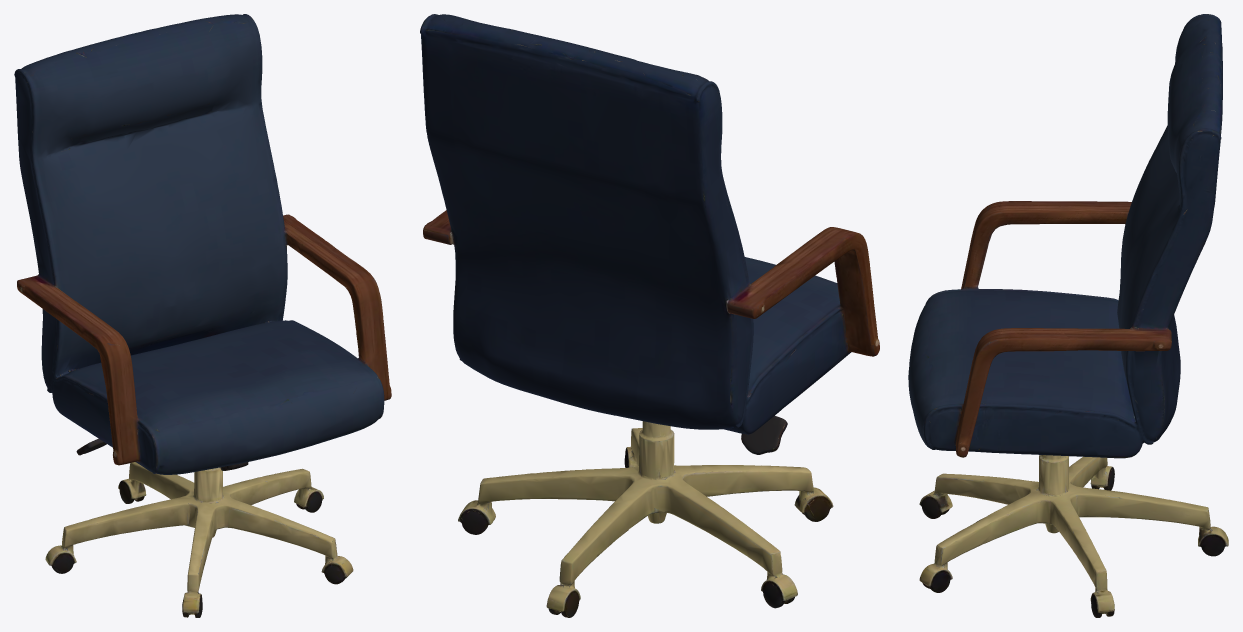
File: chair.glb
3 views of the same model, side by side, from view 1: azimuth 30°, elevation 25°; view 2: azimuth 150°, elevation 25°; view 3: azimuth 270°, elevation 25° (orthographic). The views are drawn at different scales.
Visible parts, largest first — view 1: Mesh_0; view 2: Mesh_0; view 3: Mesh_0.
Part boxes in pixels (<box>): Mesh_0: <box>14,14,391,617</box>; Mesh_0: <box>420,14,879,617</box>; Mesh_0: <box>908,14,1228,617</box>.
Bounding box in the file's own units: 1.18 × 1.91 × 1.14.
1 material, 1 textured.
